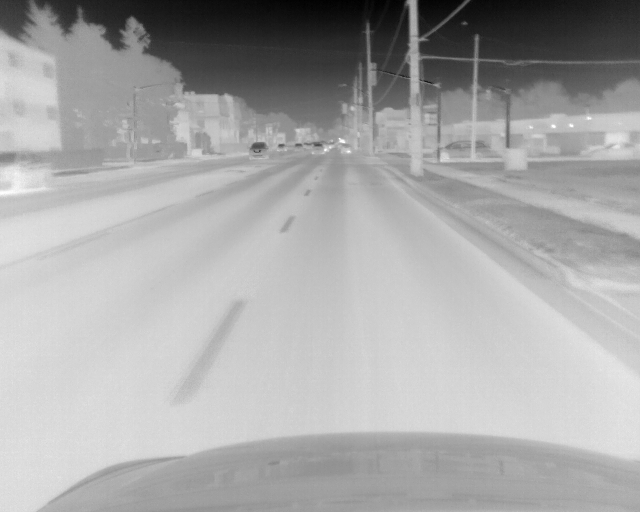car: (1, 151, 57, 195), (435, 138, 500, 160), (249, 141, 270, 159), (311, 142, 326, 155), (339, 143, 351, 154), (275, 143, 286, 152), (294, 142, 303, 152), (302, 141, 310, 149)
